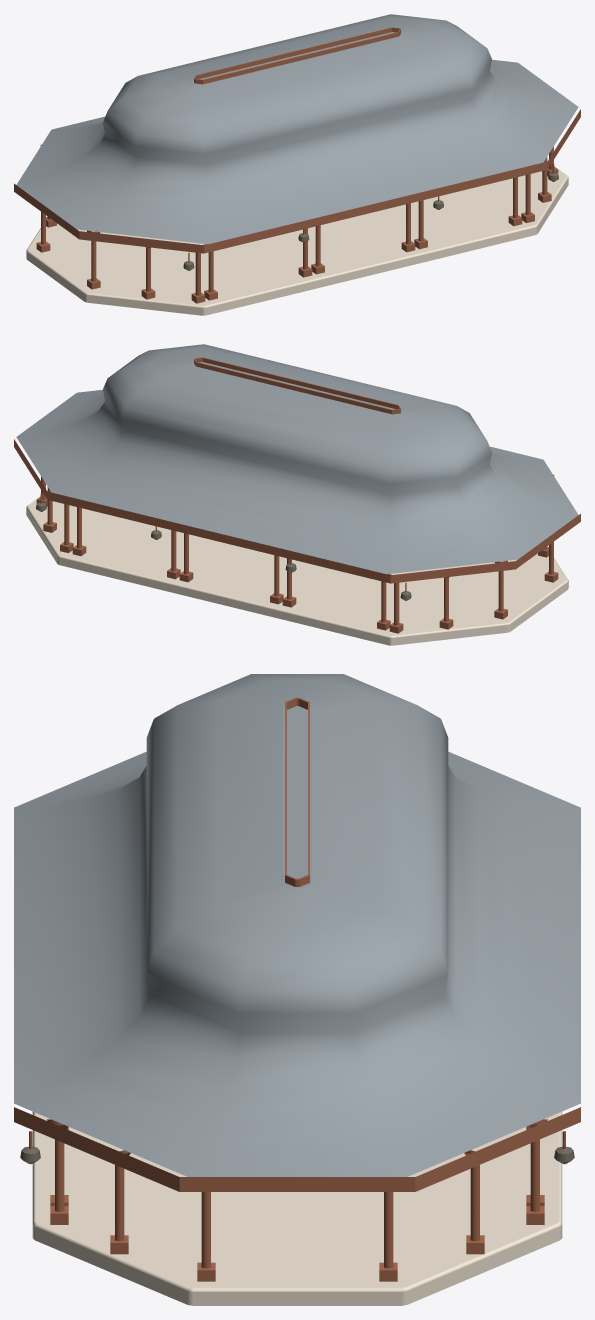
The model's file is nyc-concert-grove-pavilion.glb.
3 renders of one model, top to bottom at view 1: azimuth 30°, elevation 25°; view 2: azimuth 150°, elevation 25°; view 3: azimuth 270°, elevation 25°, orthographic. The views are drawn at different scales.
Parts seen in each view (by area): view 1: Concert Grove Pavilion; view 2: Concert Grove Pavilion; view 3: Concert Grove Pavilion.
Boxes of the visible parts, x1=… form: Concert Grove Pavilion: x1=14, y1=14, x2=580, y2=315; Concert Grove Pavilion: x1=14, y1=344, x2=580, y2=645; Concert Grove Pavilion: x1=14, y1=674, x2=580, y2=1305.
Size of the model in its own units: 25.32 by 8.1 by 13.7.
